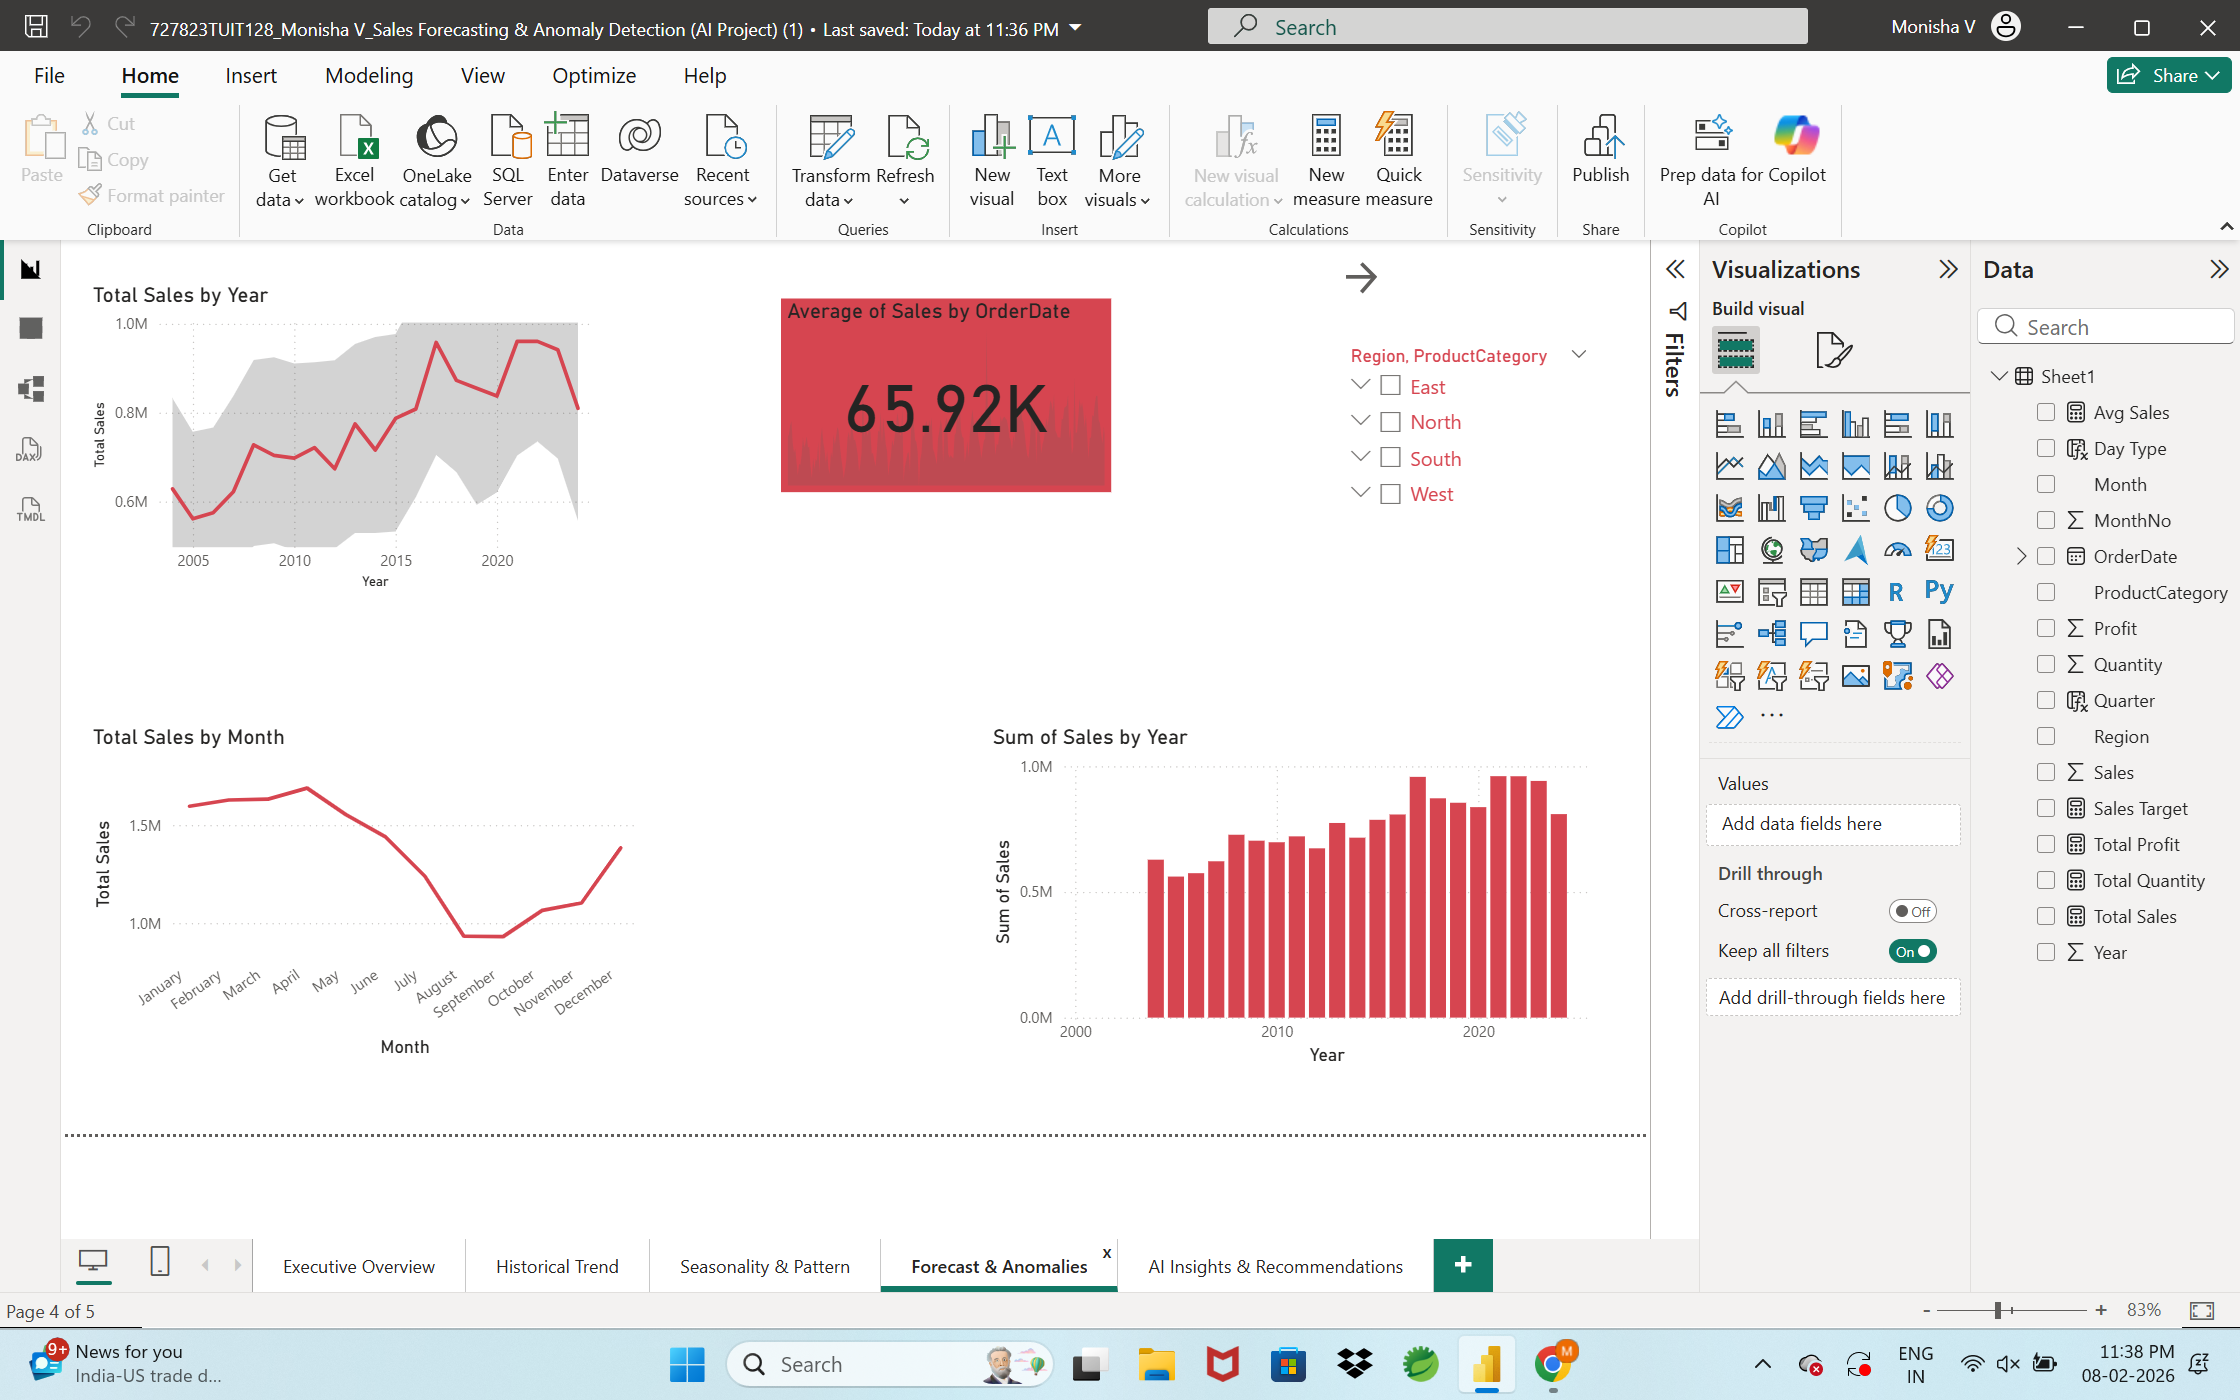

What the dashboard file says about the page in this screenshot:
{"tool":"powerbi","page":{"name":"Forecast & Anomalies","canvas":[1280,720],"ordinal":3},"visuals":[{"type":"lineChart","fields":{"Category":["Sheet1.OrderDate.Variation.Date Hierarchy.Year","Sheet1.OrderDate.Variation.Date Hierarchy.Quarter","Sheet1.OrderDate.Variation.Date Hierarchy.Month","Sheet1.OrderDate.Variation.Date Hierarchy.Day"],"Y":["Sheet1.Total Sales"]},"box":[20.9,34,413.6,251.3],"z":0},{"type":"kpi","fields":{"Indicator":["Avg(Sheet1.Sales)"],"TrendLine":["Sheet1.OrderDate"]},"box":[579.8,47.1,265.7,155.8],"z":1000},{"type":"lineChart","fields":{"Y":["Sheet1.Total Sales"],"Category":["Sheet1.OrderDate.Variation.Date Hierarchy.Month"]},"box":[20.9,390,447.6,272.2],"z":2000},{"type":"columnChart","fields":{"Category":["Sheet1.Year"],"Y":["Sum(Sheet1.Sales)"]},"box":[746.1,390,496.1,278.8],"z":3000},{"type":"slicer","fields":{"Values":["Sheet1.Region","Sheet1.ProductCategory"]},"box":[1026.2,79.8,216,159.7],"z":4000},{"type":"actionButton","box":[1028.9,13.3,67.8,34.4],"z":5000}]}

Visuals, with their boxes on the page's 1280x720 design canvas (x1, y1, x2, y2). These are canvas units, not pixel positions in the 2240x1400 screenshot, which may show the page scaled, cropped or inside an application window:
lineChart - Sheet1.OrderDate.Variation.Date Hierarchy.Year x Sheet1.OrderDate.Variation.Date Hierarchy.Quarter: rect(21, 34, 434, 285)
kpi - Avg(Sheet1.Sales) x Sheet1.OrderDate: rect(580, 47, 846, 203)
lineChart - Sheet1.Total Sales x Sheet1.OrderDate.Variation.Date Hierarchy.Month: rect(21, 390, 468, 662)
columnChart - Sheet1.Year x Sum(Sheet1.Sales): rect(746, 390, 1242, 669)
slicer - Sheet1.Region x Sheet1.ProductCategory: rect(1026, 80, 1242, 240)
actionButton: rect(1029, 13, 1097, 48)
